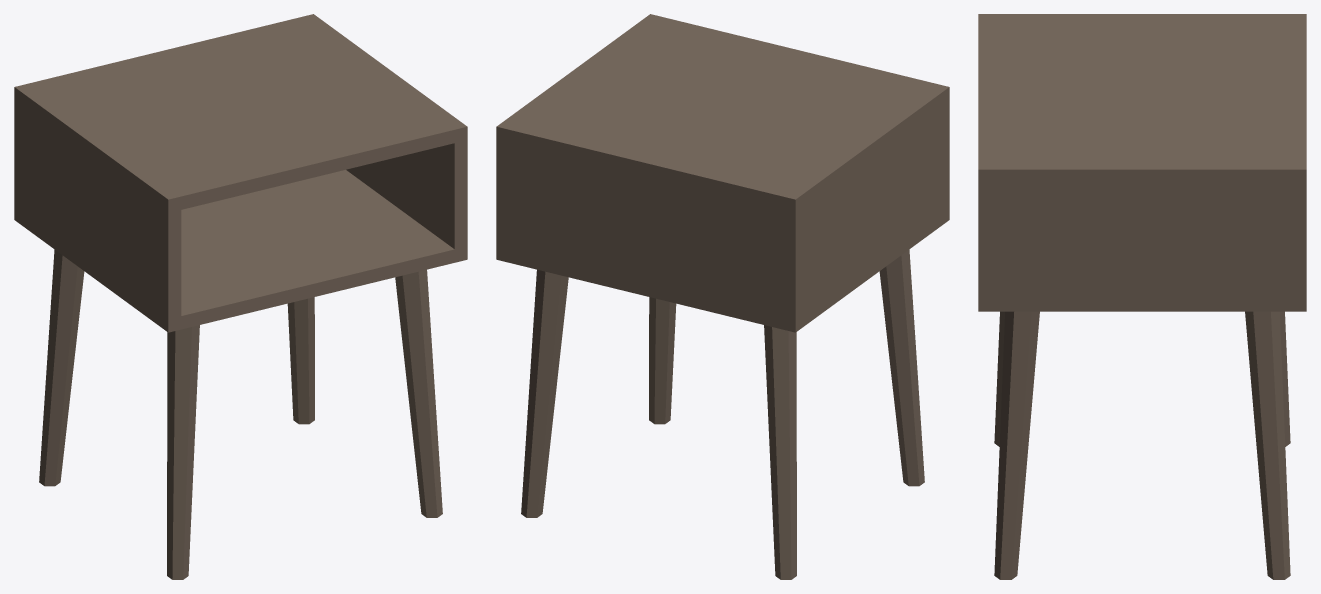
Rendered from BedTable3_C1.fbx.
3 renders of one model, left to right at view 1: azimuth 30°, elevation 25°; view 2: azimuth 150°, elevation 25°; view 3: azimuth 270°, elevation 25°, orthographic. The views are drawn at different scales.
Parts seen in each view (by area): view 1: BedTable3_C1; view 2: BedTable3_C1; view 3: BedTable3_C1.
Part boxes in pixels (x1,y1,x2,y2): BedTable3_C1: [14, 14, 467, 579]; BedTable3_C1: [496, 14, 949, 579]; BedTable3_C1: [978, 14, 1306, 579].
Bounding box in the file's own units: 40 × 50 × 35.65.
